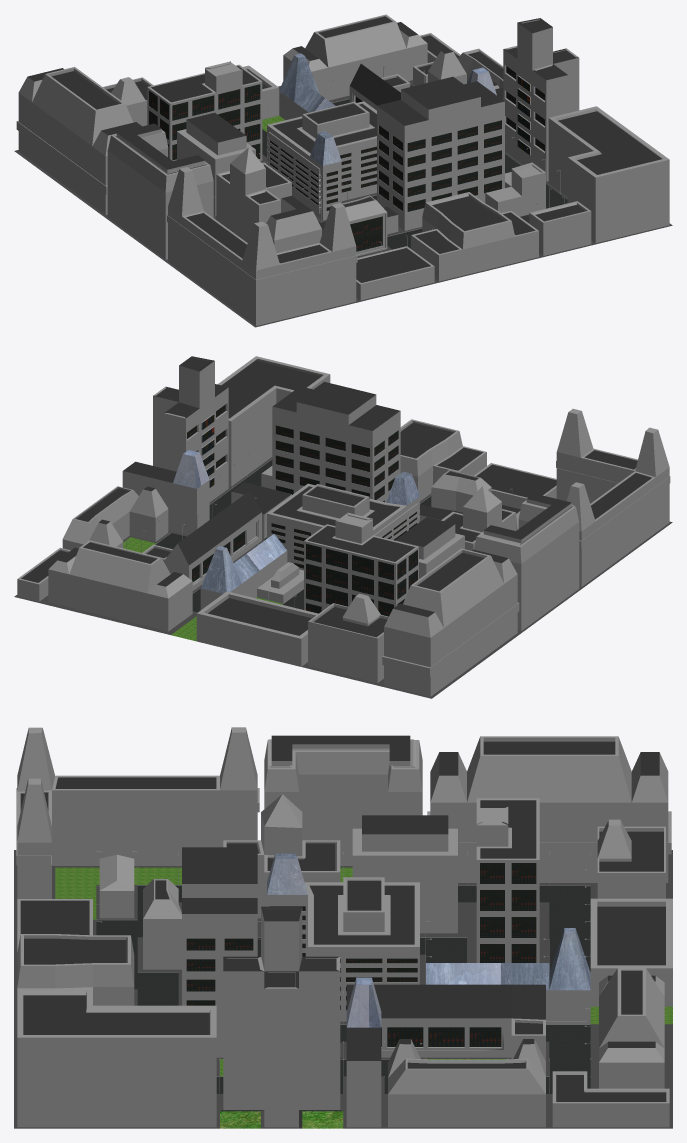
3 views of the same model, one above another, from view 1: azimuth 30°, elevation 25°; view 2: azimuth 150°, elevation 25°; view 3: azimuth 270°, elevation 25° (orthographic). The views are drawn at different scales.
Parts seen in each view (by area): view 1: Plane.001; view 2: Plane.001; view 3: Plane.001.
Boxes of the visible parts, x1,y1,x2,y2 form: Plane.001: [14, 14, 672, 327]; Plane.001: [14, 356, 672, 698]; Plane.001: [14, 727, 672, 1128].
Bounding box in the file's own units: 15111 × 4794 × 15111.
8 materials, 4 textured.
